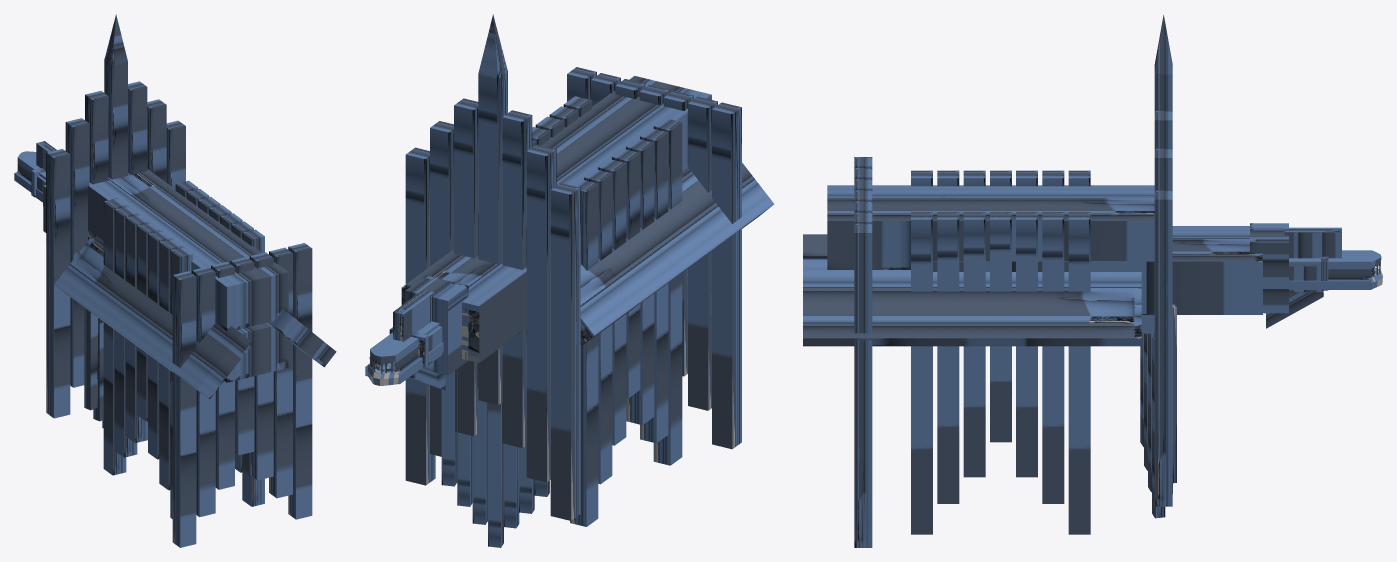
The model's file is spaceship3.fbx.
3 views of the same model, side by side, from view 1: azimuth 30°, elevation 25°; view 2: azimuth 150°, elevation 25°; view 3: azimuth 270°, elevation 25° (orthographic). The views are drawn at different scales.
Visible parts, largest first — view 1: spaceship_mesh1; view 2: spaceship_mesh1; view 3: spaceship_mesh1.
Boxes of the visible parts, <box> form: spaceship_mesh1: <box>14,14,336,547</box>; spaceship_mesh1: <box>365,14,774,547</box>; spaceship_mesh1: <box>803,15,1382,547</box>.
Size of the model in its own units: 38.47 by 112 by 118.
